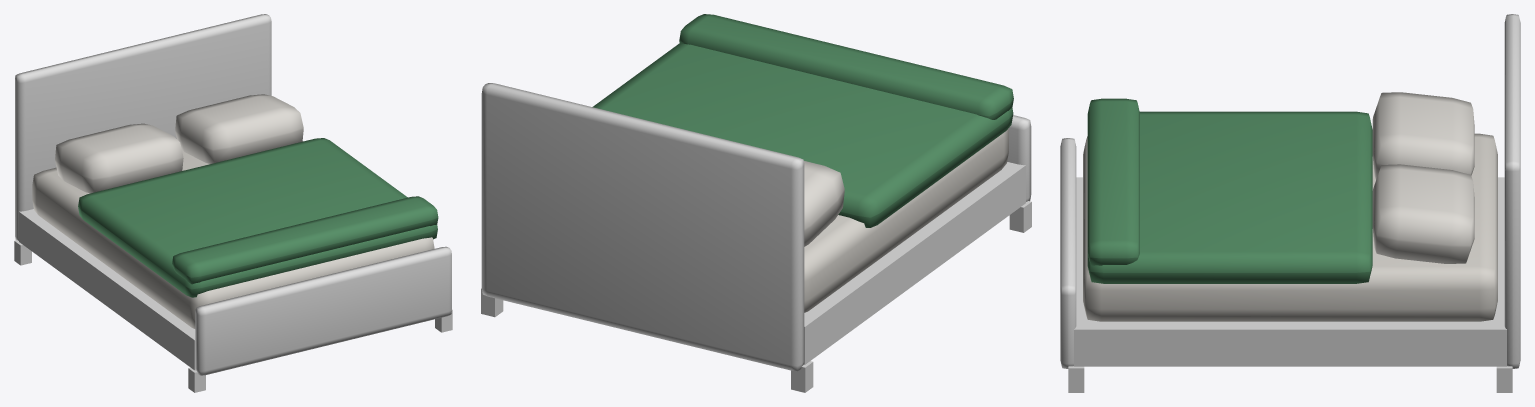
Rendered from bed-double-green.glb.
The picture shows the model from 3 angles, left to right: view 1: azimuth 30°, elevation 25°; view 2: azimuth 150°, elevation 25°; view 3: azimuth 270°, elevation 25°; orthographic projection. The views are drawn at different scales.
Visible parts, largest first — view 1: bed-double-green; view 2: bed-double-green; view 3: bed-double-green.
Boxes of the visible parts, x1,y1,x2,y2 form: bed-double-green: [14, 14, 452, 392]; bed-double-green: [481, 14, 1031, 392]; bed-double-green: [1060, 14, 1520, 392].
Bounding box in the file's own units: 1.85 × 1.27 × 2.32.
